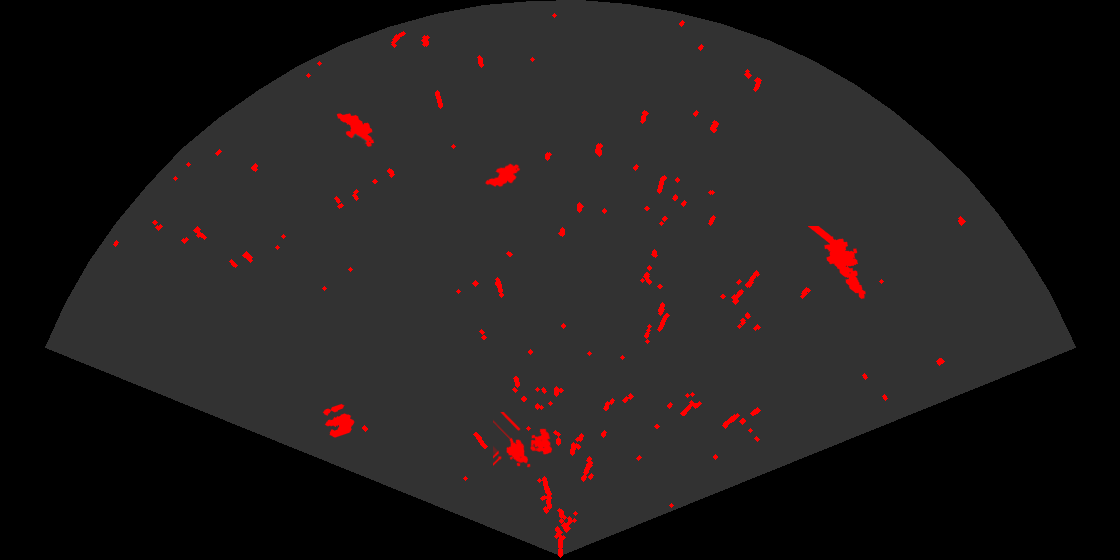AUV: (335, 112, 376, 148), (484, 162, 522, 189)
ball: (321, 402, 356, 439)
cage: (493, 412, 554, 469)
frogman: (808, 226, 867, 301)
